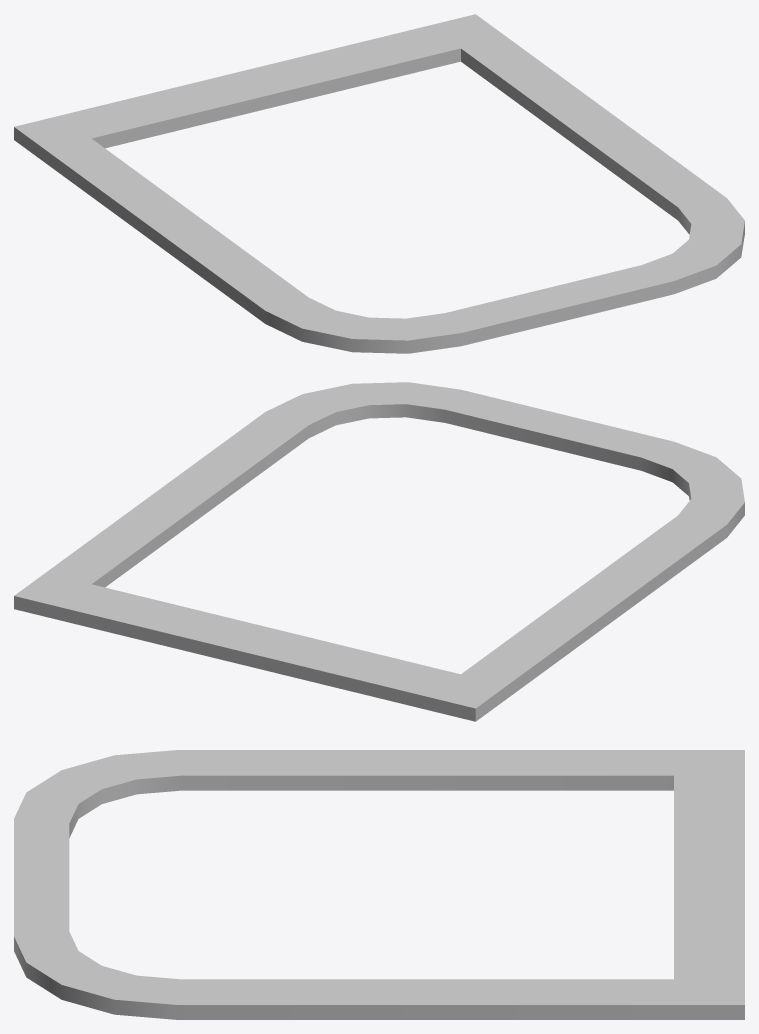
File: Toilet1_C1_02.fbx
3 renders of one model, top to bottom at view 1: azimuth 30°, elevation 25°; view 2: azimuth 150°, elevation 25°; view 3: azimuth 270°, elevation 25°, orthographic. The views are drawn at different scales.
Parts seen in each view (by area): view 1: Toilet1_C1_02; view 2: Toilet1_C1_02; view 3: Toilet1_C1_02.
Boxes of the visible parts, x1,y1,x2,y2 form: Toilet1_C1_02: (14,14,744,353); Toilet1_C1_02: (14,382,744,721); Toilet1_C1_02: (14,750,744,1019).
Size of the model in its own units: 32.21 by 0.8816 by 39.04.
